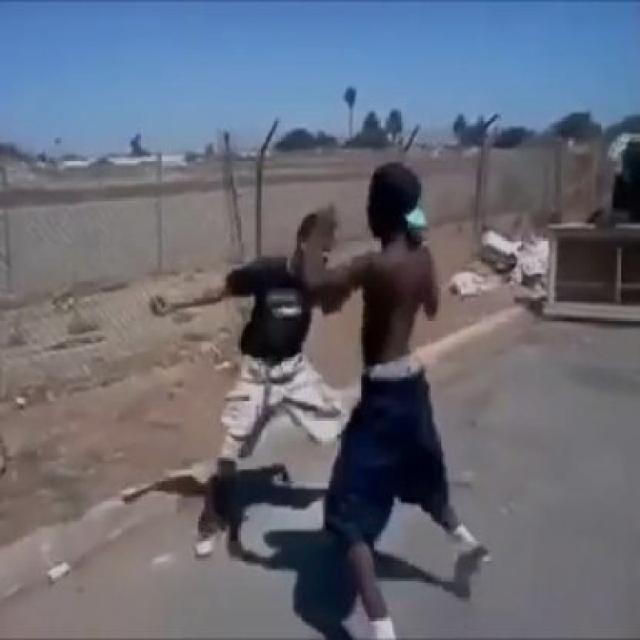fight: (148, 136, 517, 638)
